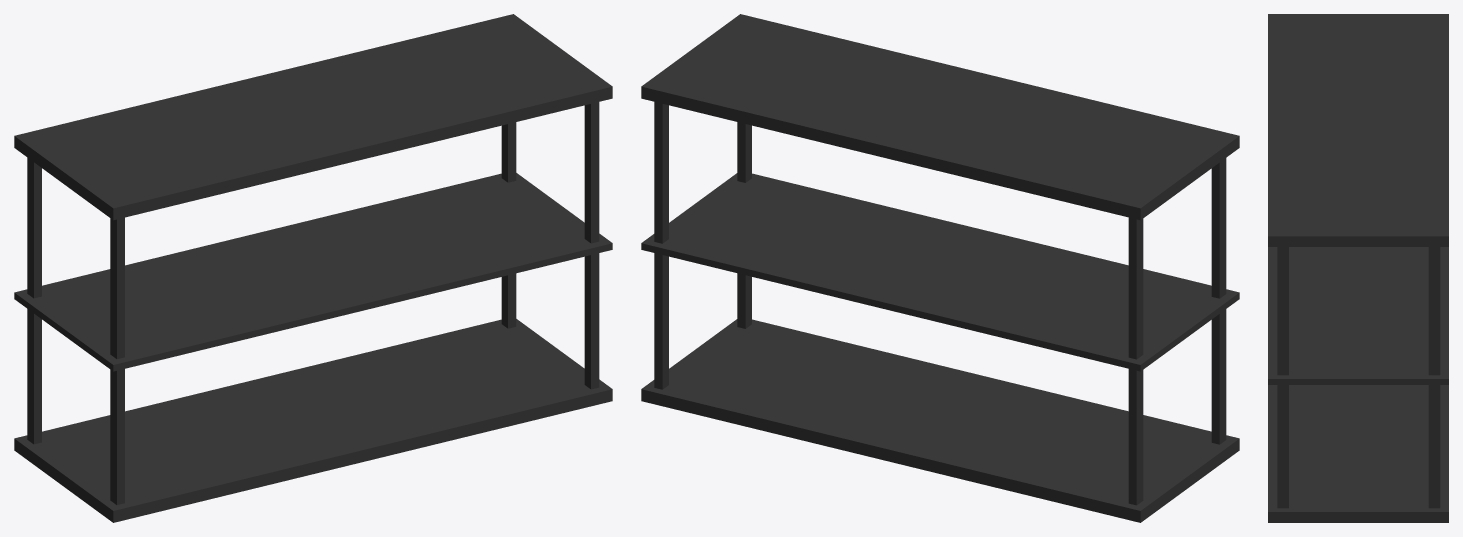
The model's file is shelf_8.glb.
3 views of the same model, side by side, from view 1: azimuth 30°, elevation 25°; view 2: azimuth 150°, elevation 25°; view 3: azimuth 270°, elevation 25° (orthographic). The views are drawn at different scales.
Parts seen in each view (by area): view 1: Expositor 2x1 A; view 2: Expositor 2x1 A; view 3: Expositor 2x1 A.
Boxes of the visible parts, x1,y1,x2,y2 form: Expositor 2x1 A: (14,14,612,522); Expositor 2x1 A: (641,14,1239,522); Expositor 2x1 A: (1268,14,1448,522).
Size of the model in its own units: 1.38 by 0.8324 by 0.4754.
Materials: 1 (1 with a texture image).
